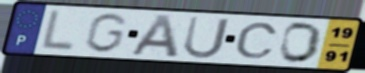A: (128, 13, 181, 59)
C: (233, 21, 281, 60)
G: (82, 12, 130, 55)
L: (37, 8, 78, 54)
O: (278, 21, 325, 65)
U: (181, 15, 232, 60)
